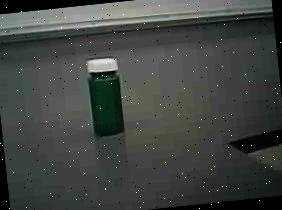Bottle C: (76, 48, 140, 144)
